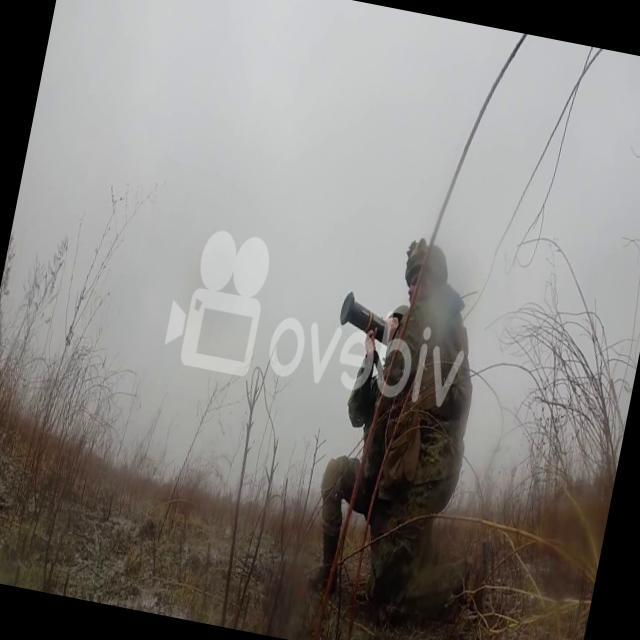rocket: (332, 292, 400, 360)
